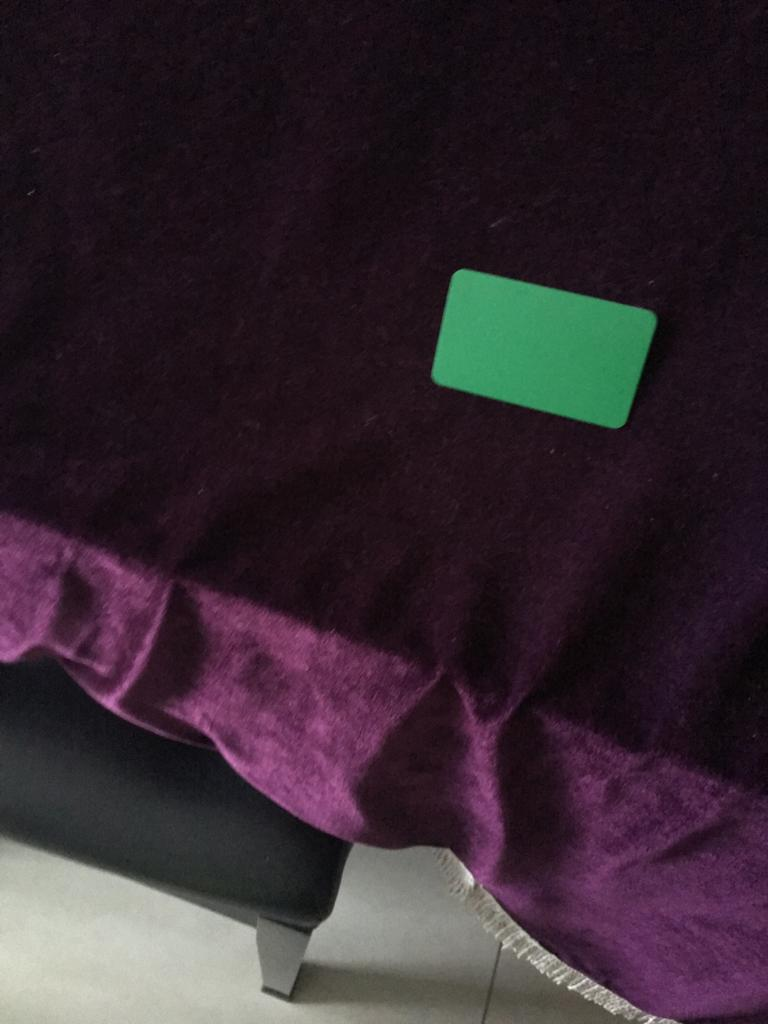green: (408, 251, 680, 458)
